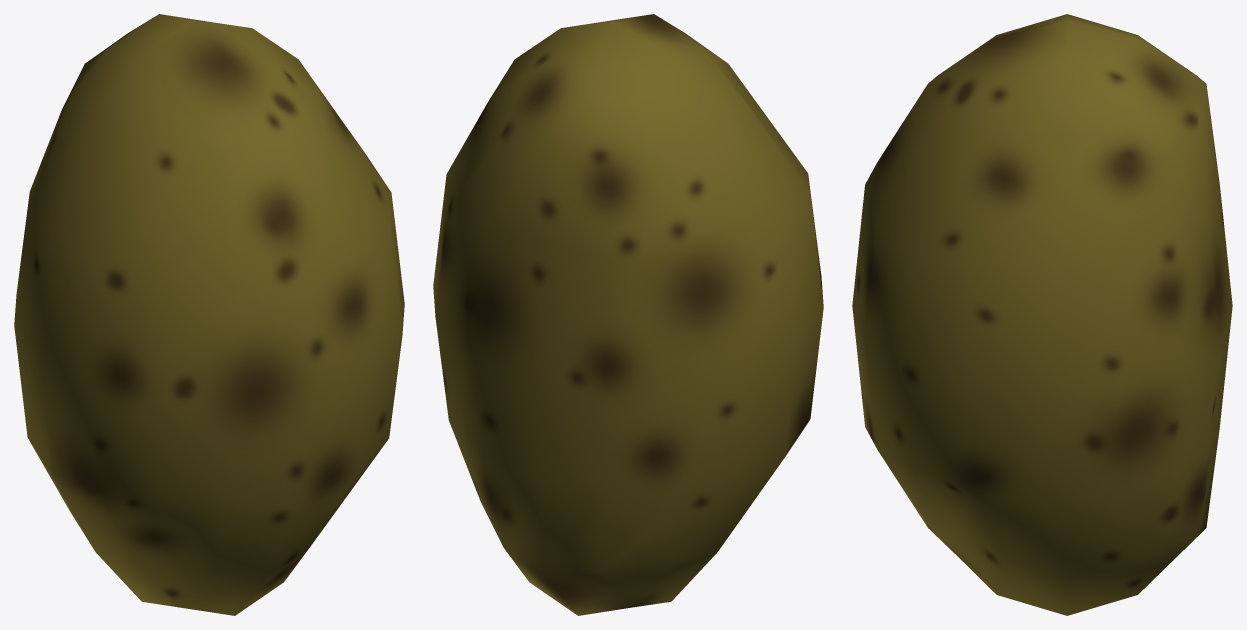
File: Potato.fbx
3 views of the same model, side by side, from view 1: azimuth 30°, elevation 25°; view 2: azimuth 150°, elevation 25°; view 3: azimuth 270°, elevation 25° (orthographic).
Visible parts, largest first — view 1: pCube125; view 2: pCube125; view 3: pCube125.
Boxes of the visible parts, <box> form: pCube125: <box>14,14,404,615</box>; pCube125: <box>433,14,823,615</box>; pCube125: <box>852,14,1232,615</box>.
Size of the model in its own units: 1.56 by 2.6 by 1.52.
